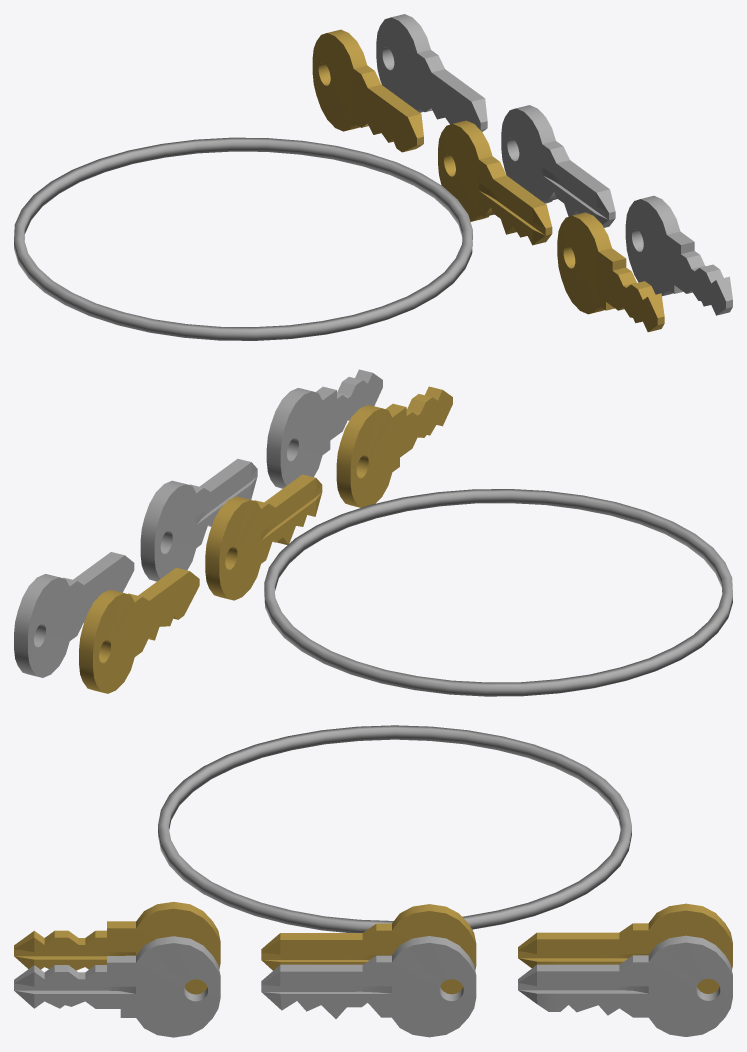
File: Keys.fbx
3 renders of one model, top to bottom at view 1: azimuth 30°, elevation 25°; view 2: azimuth 150°, elevation 25°; view 3: azimuth 270°, elevation 25°, orthographic. The views are drawn at different scales.
Visible parts, largest first — view 1: polySurface8, pCylinder26, pCylinder25, pCylinder24, pCylinder21, pCylinder23, pCylinder19; view 2: polySurface8, pCylinder26, pCylinder25, pCylinder24, pCylinder19, pCylinder23, pCylinder21; view 3: polySurface8, pCylinder19, pCylinder21, pCylinder23, pCylinder24, pCylinder26, pCylinder25.
Boxes of the visible parts, bbox=[...] form: polySurface8: bbox=[14, 137, 472, 340]; pCylinder26: bbox=[312, 29, 423, 152]; pCylinder25: bbox=[438, 120, 552, 245]; pCylinder24: bbox=[557, 212, 664, 332]; pCylinder21: bbox=[501, 105, 615, 227]; pCylinder23: bbox=[625, 195, 732, 315]; pCylinder19: bbox=[376, 14, 487, 131]; polySurface8: bbox=[264, 489, 732, 696]; pCylinder26: bbox=[79, 568, 199, 693]; pCylinder25: bbox=[205, 474, 322, 600]; pCylinder24: bbox=[336, 386, 452, 507]; pCylinder19: bbox=[14, 552, 134, 677]; pCylinder23: bbox=[266, 369, 382, 488]; pCylinder21: bbox=[140, 458, 257, 581]; polySurface8: bbox=[158, 725, 631, 932]; pCylinder19: bbox=[518, 935, 732, 1036]; pCylinder21: bbox=[261, 936, 476, 1037]; pCylinder23: bbox=[14, 936, 220, 1037]; pCylinder24: bbox=[14, 901, 220, 994]; pCylinder26: bbox=[518, 903, 732, 993]; pCylinder25: bbox=[261, 904, 476, 994].
Bounding box in the file's own units: 14.94 × 2.56 × 17.66.
